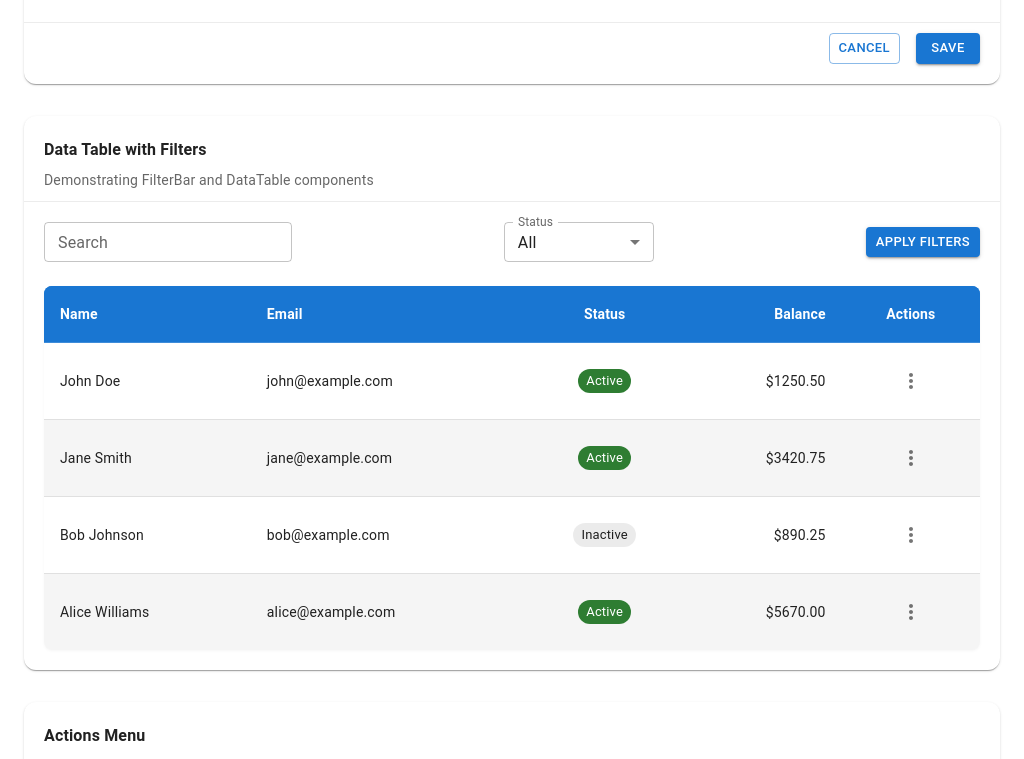
Scenario: ComponentShowcase Integration › renders action menus for each user row
The width and height of the screenshot is (1024, 759).
(page scrolled)
Note: Click first action button
Click the button named "Actions for" at coordinates (911, 381), box [889,359,933,403]
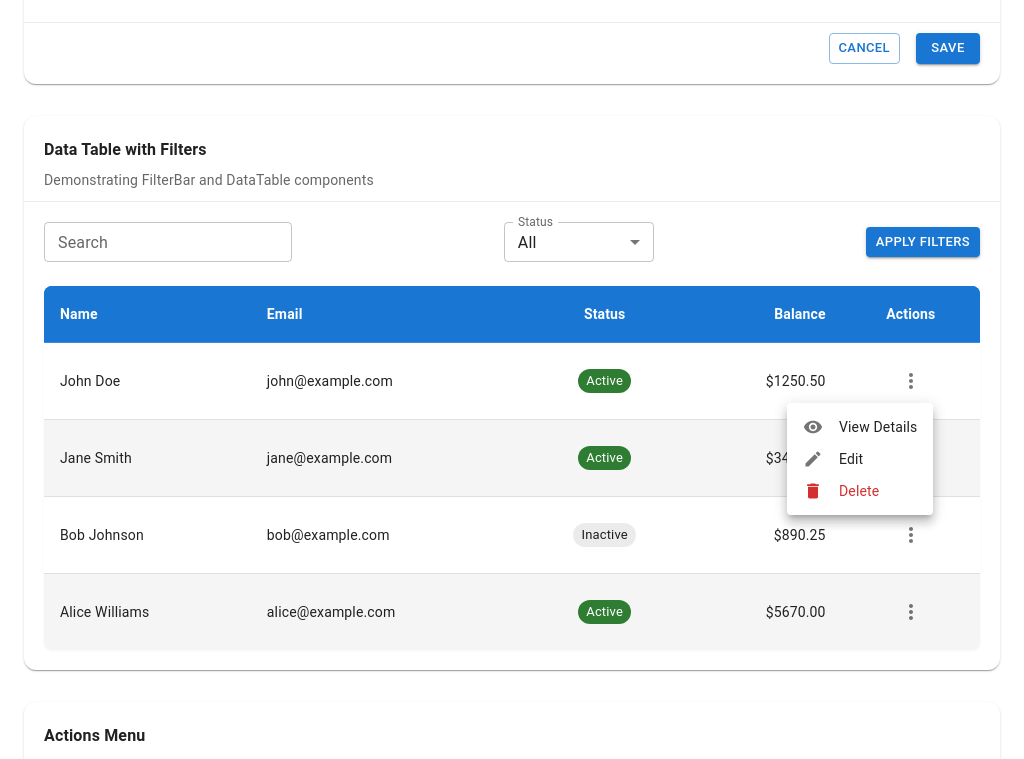
Check: the text "View Details" is shown, box [839,417,917,437]
Check: the text "Edit" is shown, box [839,451,863,467]
Check: the text "Delete" is shown, box [839,483,879,499]
